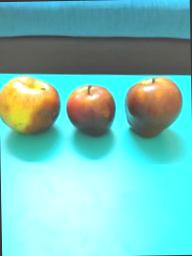Apple Overripe: (0, 74, 62, 146)
Apple Rotten: (122, 74, 184, 144), (67, 82, 117, 140)
